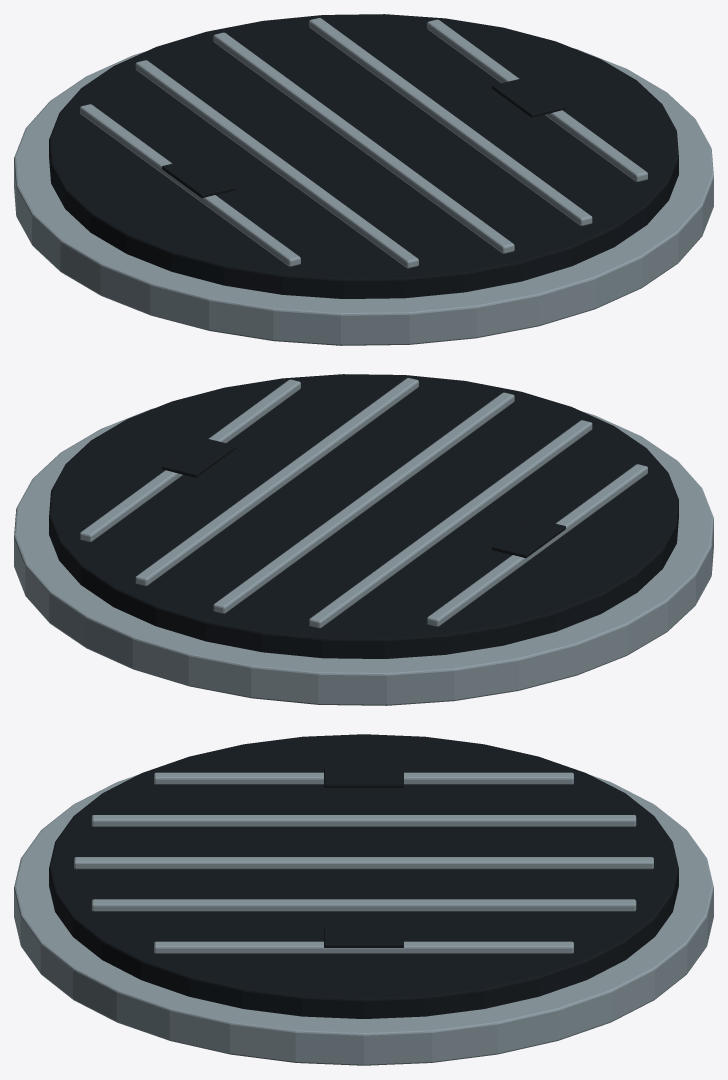
3 renders of one model, top to bottom at view 1: azimuth 30°, elevation 25°; view 2: azimuth 150°, elevation 25°; view 3: azimuth 270°, elevation 25°, orthographic.
Parts seen in each view (by area): view 1: LID, FRAME, RIB.002, RIB.001, RIB.003, RIB, RIB.004, LIFT_Recess.001, LIFT_Recess; view 2: LID, FRAME, RIB.002, RIB.001, RIB.003, RIB, RIB.004, LIFT_Recess.001, LIFT_Recess; view 3: LID, FRAME, RIB.002, RIB.003, RIB.001, RIB.004, RIB, LIFT_Recess, LIFT_Recess.001.
Boxes of the visible parts, bbox=[...] form: LID: bbox=[49, 14, 678, 298]; FRAME: bbox=[14, 48, 713, 345]; RIB.002: bbox=[213, 32, 514, 253]; RIB.001: bbox=[135, 60, 418, 268]; RIB.003: bbox=[309, 18, 592, 225]; RIB: bbox=[80, 104, 300, 266]; RIB.004: bbox=[427, 19, 647, 181]; LIFT_Recess.001: bbox=[492, 77, 565, 117]; LIFT_Recess: bbox=[162, 158, 235, 198]; LID: bbox=[49, 374, 678, 658]; FRAME: bbox=[14, 408, 713, 705]; RIB.002: bbox=[213, 392, 514, 613]; RIB.001: bbox=[309, 420, 592, 628]; RIB.003: bbox=[135, 378, 418, 585]; RIB: bbox=[427, 464, 647, 626]; RIB.004: bbox=[80, 379, 300, 541]; LIFT_Recess.001: bbox=[162, 437, 235, 477]; LIFT_Recess: bbox=[492, 518, 565, 558]; LID: bbox=[49, 734, 678, 1018]; FRAME: bbox=[14, 775, 713, 1065]; RIB.002: bbox=[74, 857, 653, 869]; RIB.003: bbox=[91, 899, 636, 911]; RIB.001: bbox=[91, 815, 636, 826]; RIB.004: bbox=[154, 941, 573, 953]; RIB: bbox=[154, 772, 573, 784]; LIFT_Recess: bbox=[324, 767, 403, 787]; LIFT_Recess.001: bbox=[324, 928, 403, 947].
Size of the model in its own units: 0.7 by 0.069 by 0.7.
